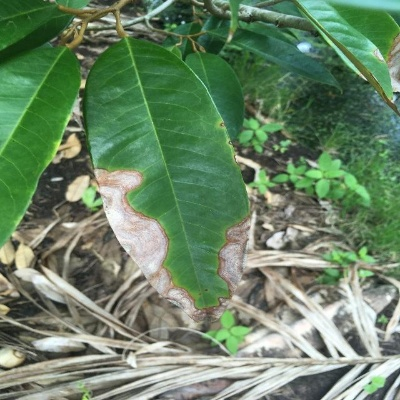Leaf_Colletotrichum: (82, 36, 254, 322)
